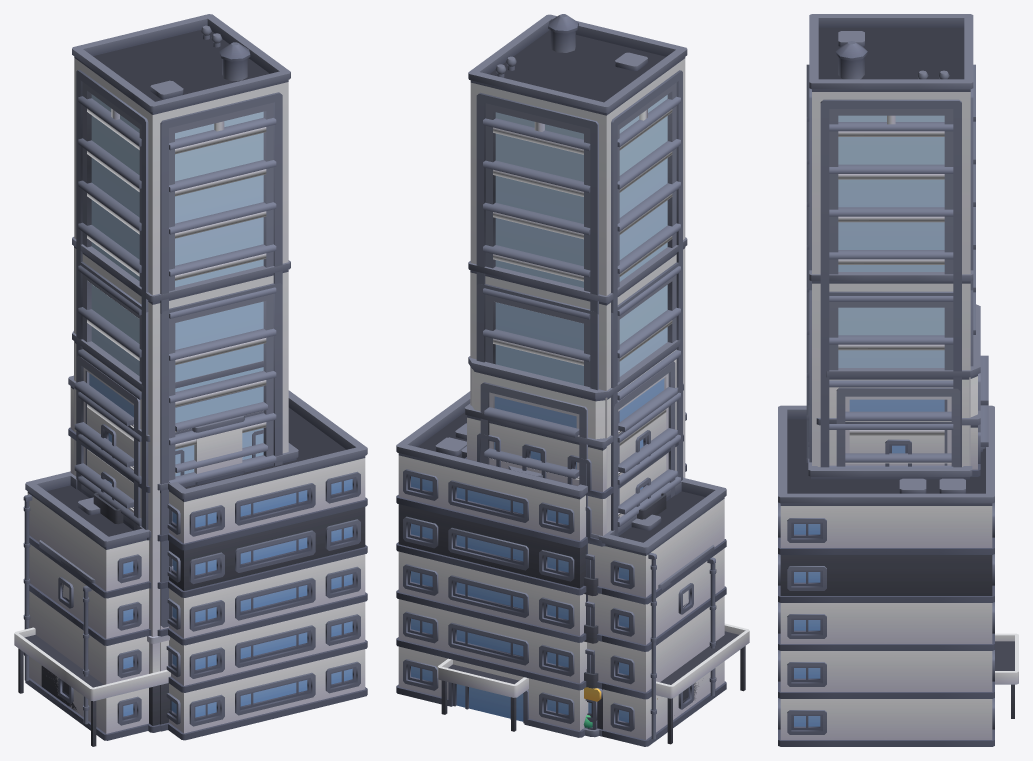
The model's file is kenney-pack.glb.
The picture shows the model from 3 angles, left to right: view 1: azimuth 30°, elevation 25°; view 2: azimuth 150°, elevation 25°; view 3: azimuth 270°, elevation 25°; orthographic projection.
Parts seen in each view (by area): view 1: building-skyscraper-d, building-n, building-skyscraper-c, building-j, building-skyscraper-a, building-k, building-m, building-l; view 2: building-skyscraper-d, building-n, building-j, building-skyscraper-c, building-skyscraper-a, building-m, building-k, building-i, building-l; view 3: building-n, building-skyscraper-d, building-skyscraper-c, building-skyscraper-a, building-m, building-l.
Part boxes in pixels (x1=…): building-skyscraper-d: x1=72, y1=14, x2=290, y2=731; building-n: x1=14, y1=390, x2=367, y2=746; building-skyscraper-c: x1=72, y1=237, x2=290, y2=732; building-j: x1=23, y1=471, x2=149, y2=740; building-skyscraper-a: x1=72, y1=331, x2=267, y2=530; building-k: x1=39, y1=540, x2=95, y2=728; building-m: x1=68, y1=375, x2=263, y2=629; building-l: x1=93, y1=443, x2=298, y2=731; building-skyscraper-d: x1=468, y1=14, x2=687, y2=530; building-n: x1=396, y1=391, x2=749, y2=744; building-j: x1=583, y1=478, x2=726, y2=746; building-skyscraper-c: x1=468, y1=237, x2=687, y2=532; building-skyscraper-a: x1=468, y1=339, x2=680, y2=729; building-m: x1=464, y1=383, x2=683, y2=736; building-k: x1=657, y1=545, x2=716, y2=735; building-i: x1=584, y1=477, x2=684, y2=729; building-l: x1=461, y1=446, x2=666, y2=519; building-n: x1=778, y1=405, x2=1018, y2=746; building-skyscraper-d: x1=806, y1=14, x2=975, y2=467; building-skyscraper-c: x1=806, y1=270, x2=975, y2=468; building-skyscraper-a: x1=808, y1=304, x2=988, y2=467; building-m: x1=816, y1=410, x2=980, y2=476; building-l: x1=808, y1=447, x2=985, y2=479.
Bounding box in the file's own units: 2.32 × 5.47 × 1.82.
Materials: 1 (1 with a texture image).
